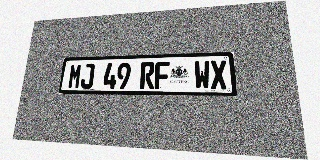4: (103, 63, 118, 89)
9: (116, 63, 131, 89)
F: (154, 62, 170, 89)
J: (80, 63, 95, 89)
M: (67, 64, 82, 89)
R: (140, 62, 155, 89)
W: (194, 60, 210, 89)
X: (210, 60, 228, 89)
